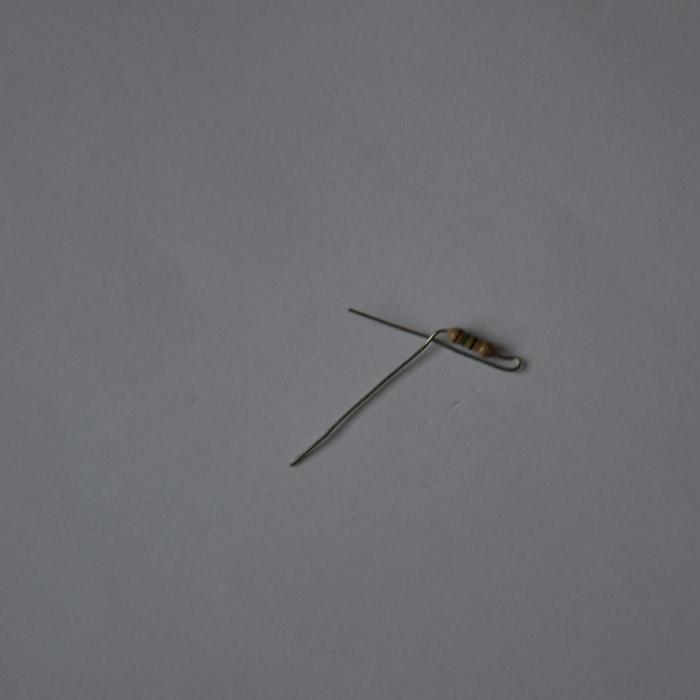resistor: (445, 328, 496, 358)
